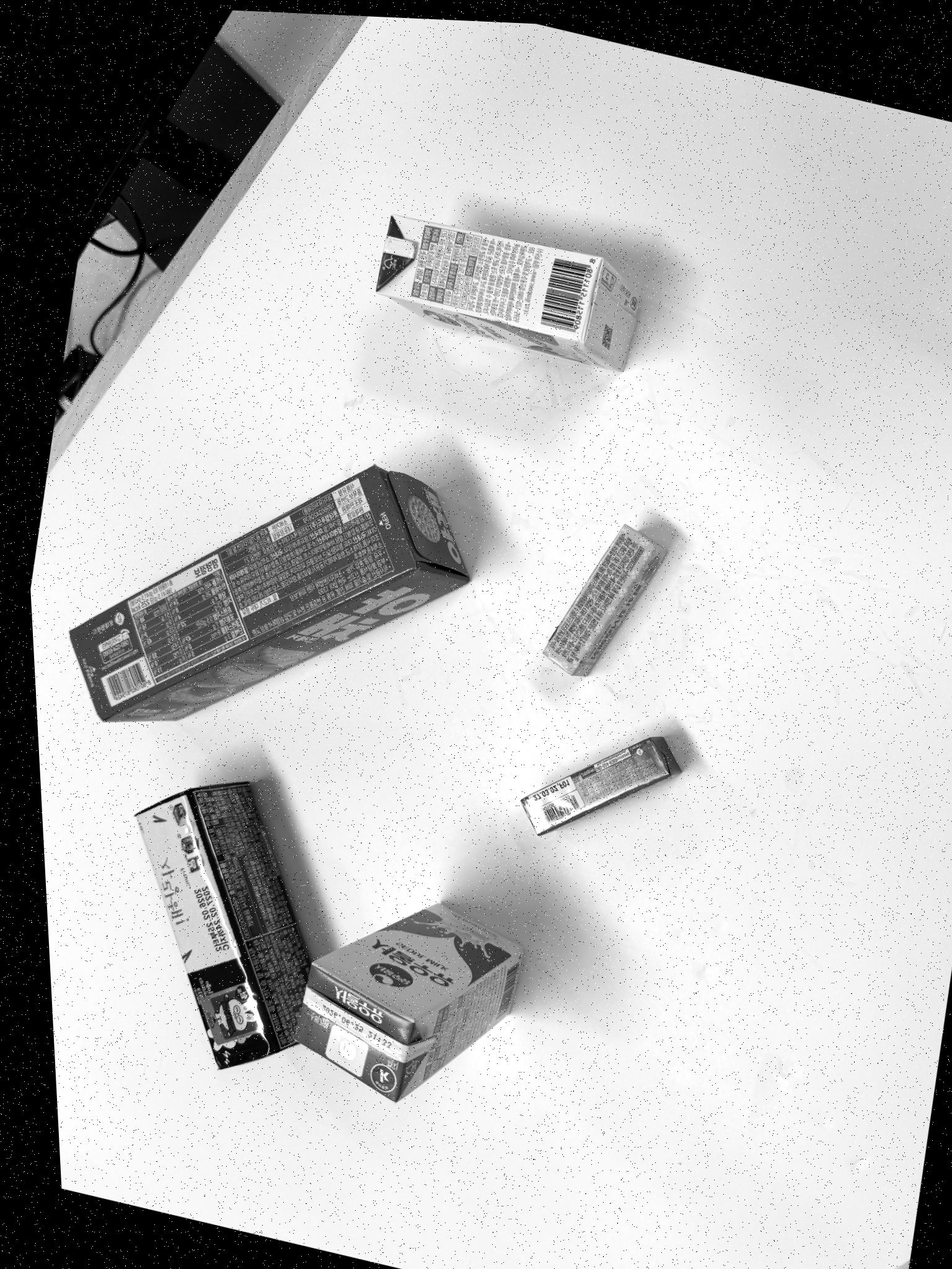cracker_ace: (135, 781, 312, 1068)
cracker_vege: (71, 466, 469, 723)
gum_green: (522, 737, 680, 834)
gum_yellow: (544, 525, 667, 676)
milk_green: (297, 903, 523, 1102)
